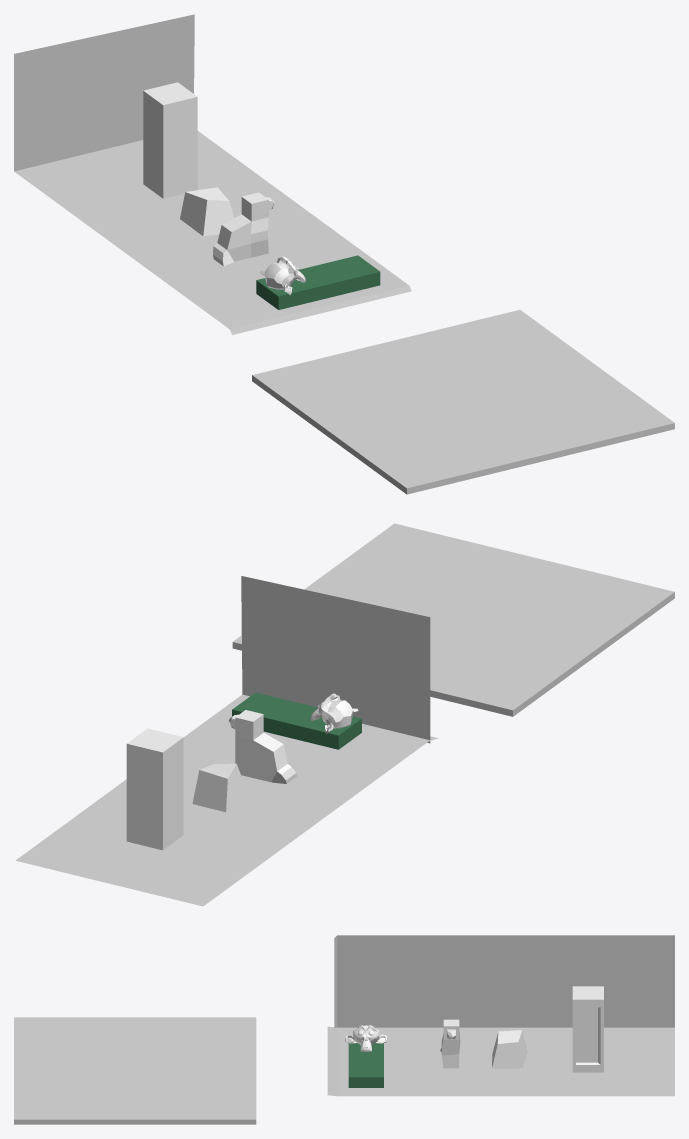
The model's file is waow.glb.
The picture shows the model from 3 angles, top to bottom: view 1: azimuth 30°, elevation 25°; view 2: azimuth 150°, elevation 25°; view 3: azimuth 270°, elevation 25°; orthographic projection. The views are drawn at different scales.
Parts seen in each view (by area): view 1: Plane, Plane.001, Cube.003, Cube, Cube.001, Cube.002, Suzanne; view 2: Plane, Plane.001, Cube.003, Cube, Cube.001, Cube.002, Suzanne; view 3: Plane, Plane.001, Cube.003, Cube, Cube.002, Cube.001, Suzanne.
Part boxes in pixels (bbox=[...]): Plane: bbox=[14, 14, 411, 334]; Plane.001: bbox=[252, 310, 674, 494]; Cube.003: bbox=[143, 82, 197, 198]; Cube: bbox=[256, 255, 380, 309]; Cube.001: bbox=[213, 192, 274, 266]; Cube.002: bbox=[180, 187, 234, 236]; Suzanne: bbox=[259, 256, 305, 294]; Plane: bbox=[15, 576, 437, 906]; Plane.001: bbox=[232, 523, 674, 716]; Cube.003: bbox=[126, 728, 183, 850]; Cube: bbox=[232, 692, 361, 749]; Cube.001: bbox=[229, 710, 297, 783]; Cube.002: bbox=[192, 763, 248, 812]; Suzanne: bbox=[310, 693, 358, 734]; Plane: bbox=[327, 935, 674, 1096]; Plane.001: bbox=[14, 1017, 256, 1124]; Cube.003: bbox=[572, 986, 603, 1072]; Cube: bbox=[348, 1043, 383, 1087]; Cube.002: bbox=[492, 1030, 527, 1068]; Cube.001: bbox=[440, 1019, 460, 1068]; Suzanne: bbox=[345, 1025, 387, 1051].
Bounding box in the file's own units: 15.51 × 6.9 × 42.29.
